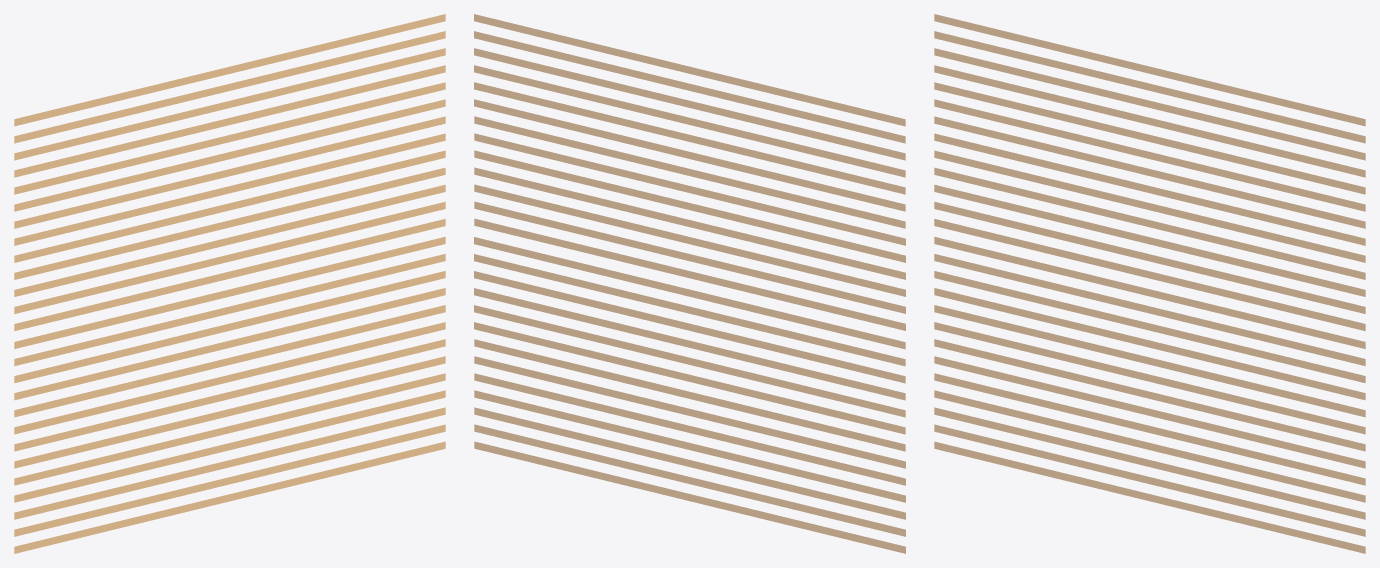
Rendered from SHADER.glb.
3 views of the same model, side by side, from view 1: azimuth 30°, elevation 25°; view 2: azimuth 150°, elevation 25°; view 3: azimuth 330°, elevation 25° (orthographic).
Visible parts, largest first — view 1: SHADES; view 2: SHADES; view 3: SHADES.
Boxes of the visible parts, bbox=[...] form: SHADES: bbox=[14, 14, 445, 553]; SHADES: bbox=[474, 14, 905, 553]; SHADES: bbox=[934, 14, 1365, 553].
Bounding box in the file's own units: 109 × 105 × 0.1153.
